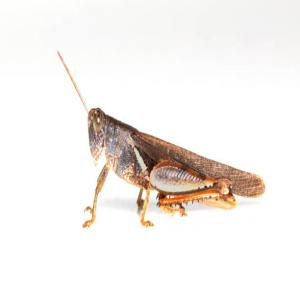locust: (65, 71, 267, 230)
